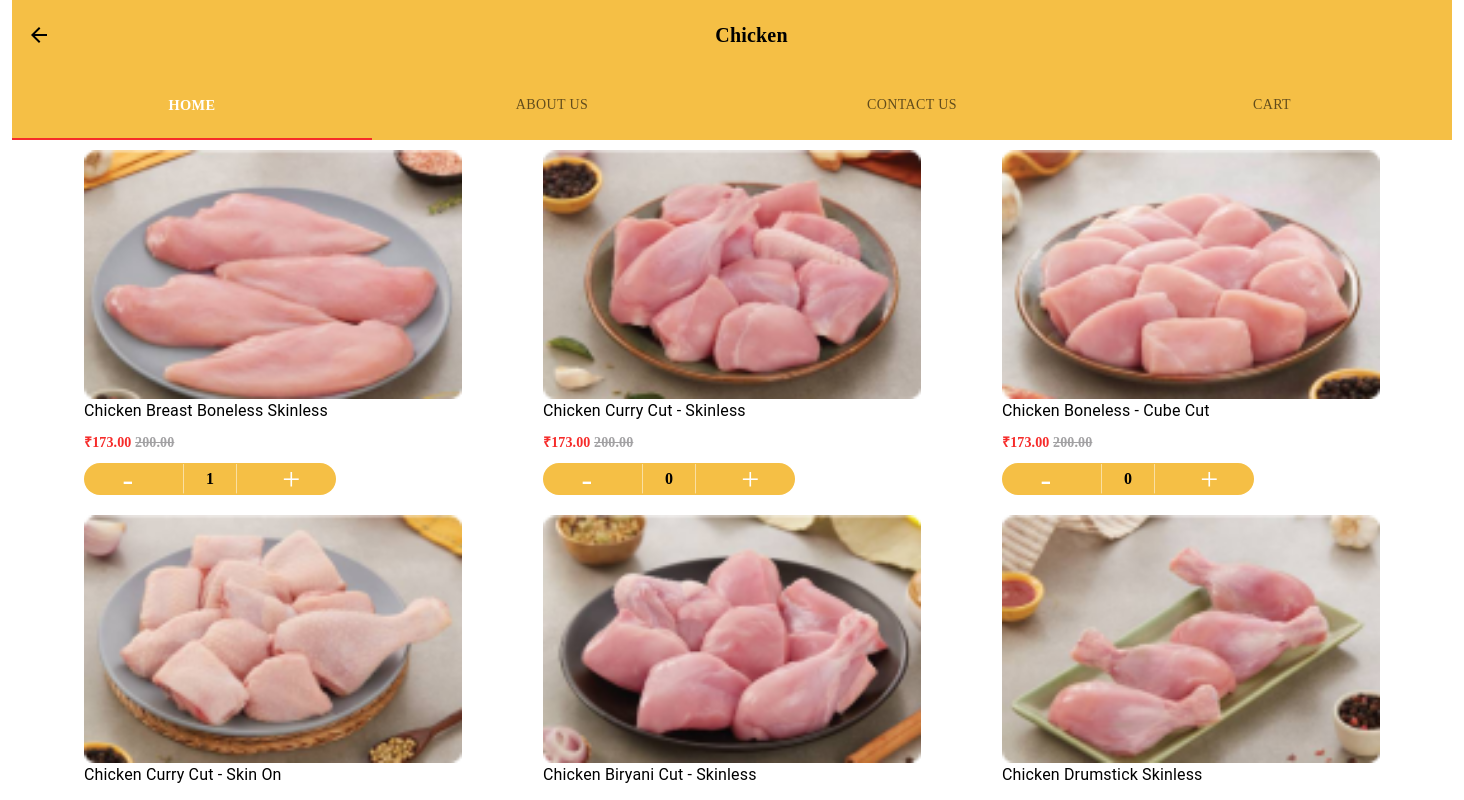
Test: single category products › test the decrement
Click the button with test id "decrementButton" at {"x": 128, "y": 479}, box [96,470,160,488]
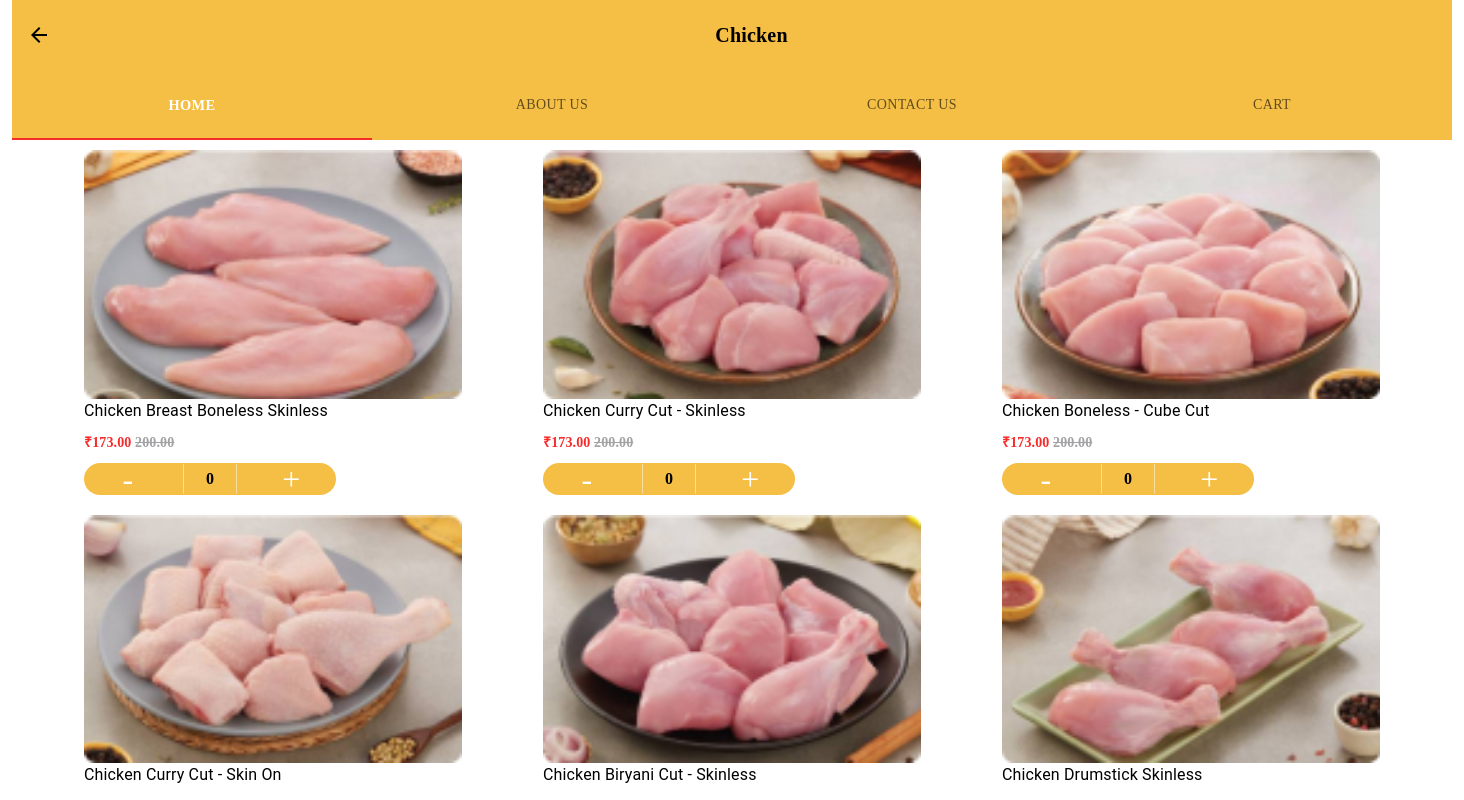
expect the text with test id "quantityText" below "Chicken Breast Boneless Skinless" reads "0": met, box [206,470,214,487]
